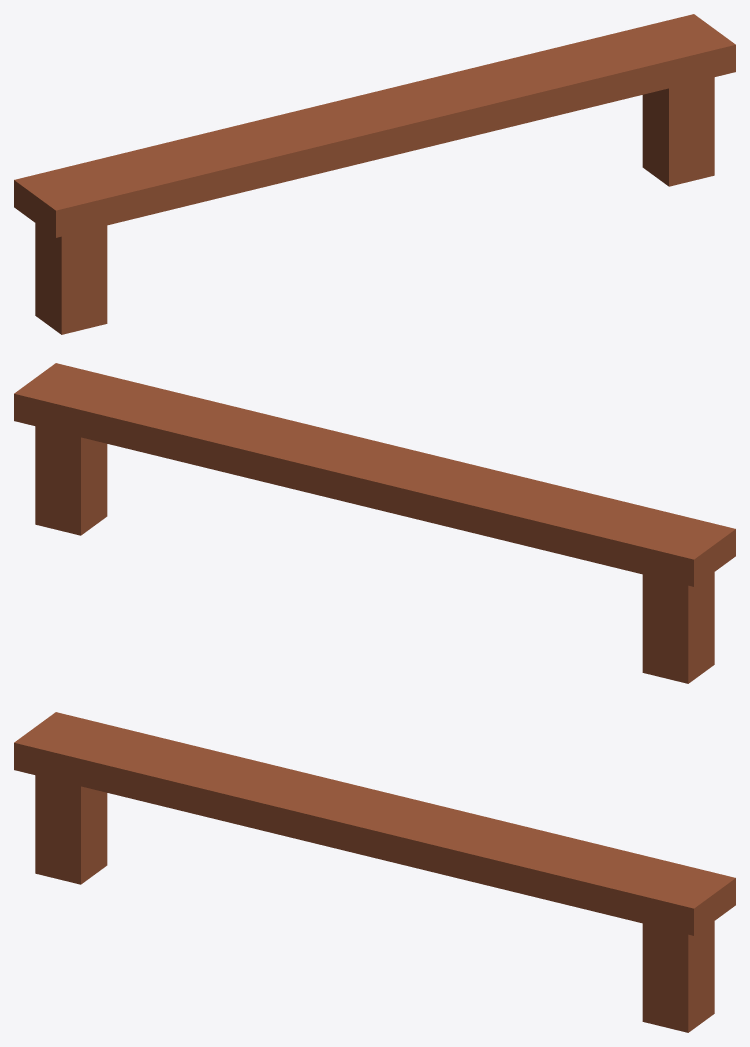
Rendered from fence_simpleLow.glb.
3 renders of one model, top to bottom at view 1: azimuth 30°, elevation 25°; view 2: azimuth 150°, elevation 25°; view 3: azimuth 330°, elevation 25°, orthographic.
Parts seen in each view (by area): view 1: fence_simpleLow; view 2: fence_simpleLow; view 3: fence_simpleLow.
Part boxes in pixels (x1,y1,x2,y2): fence_simpleLow: (14,14,735,334); fence_simpleLow: (14,363,735,683); fence_simpleLow: (14,712,735,1032).
Size of the model in its own units: 1.04 by 0.195 by 0.1112.
